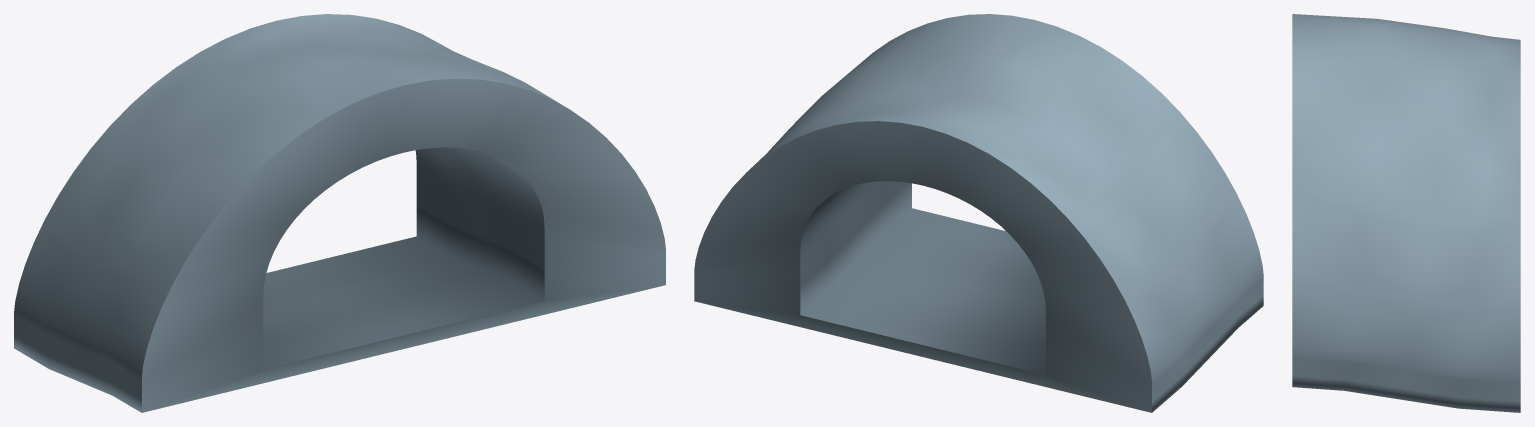
The model's file is grade_down_terrain_lod1.glb.
The picture shows the model from 3 angles, left to right: view 1: azimuth 30°, elevation 25°; view 2: azimuth 150°, elevation 25°; view 3: azimuth 270°, elevation 25°; orthographic projection. The views are drawn at different scales.
Parts seen in each view (by area): view 1: TerrainRoof.011; view 2: TerrainRoof.011; view 3: TerrainRoof.011.
Part boxes in pixels (bbox=[...]): TerrainRoof.011: bbox=[14, 14, 665, 412]; TerrainRoof.011: bbox=[694, 14, 1263, 412]; TerrainRoof.011: bbox=[1292, 14, 1520, 412].
Size of the model in its own units: 28.4 by 15.15 by 12.
